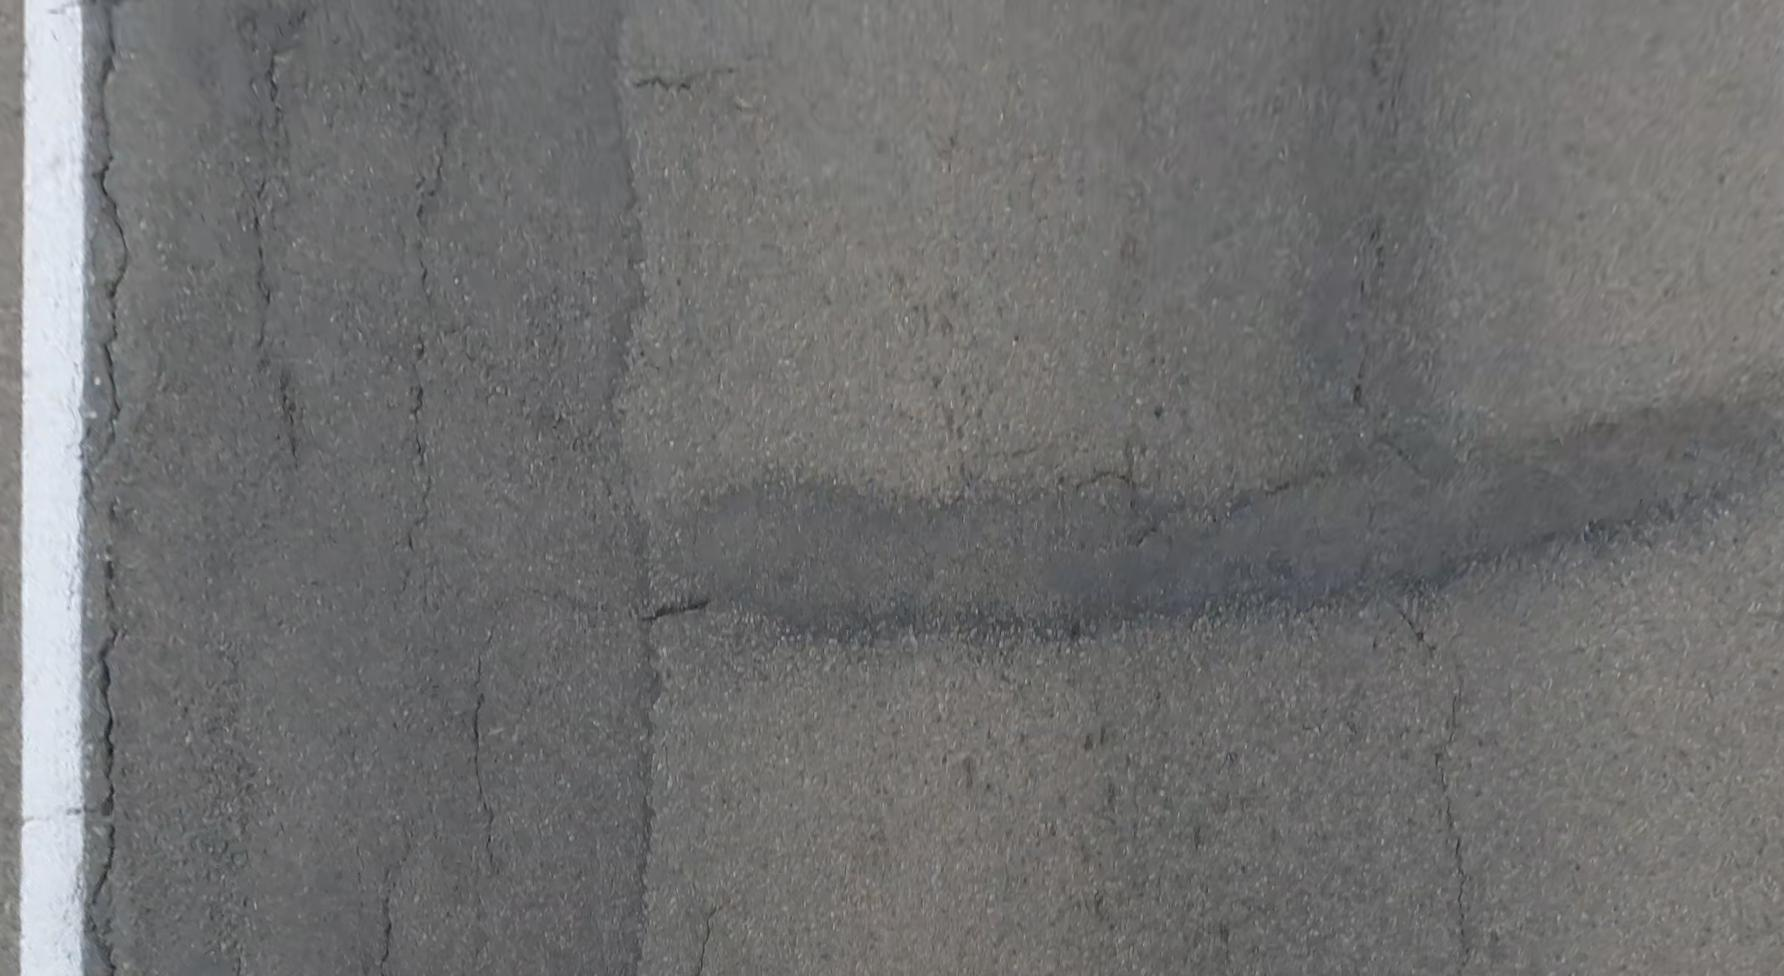pothole_patch_good: (637, 381, 1782, 650)
pothole_patch_poor: (85, 1, 650, 974)
